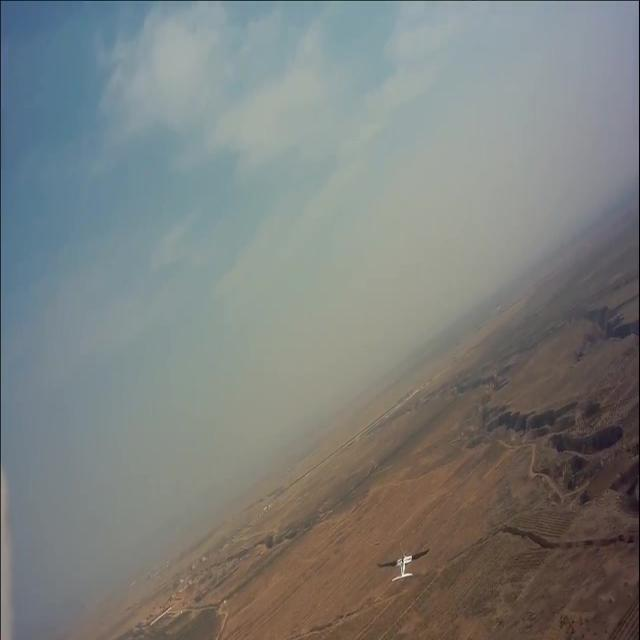iha: (376, 540, 430, 582)
